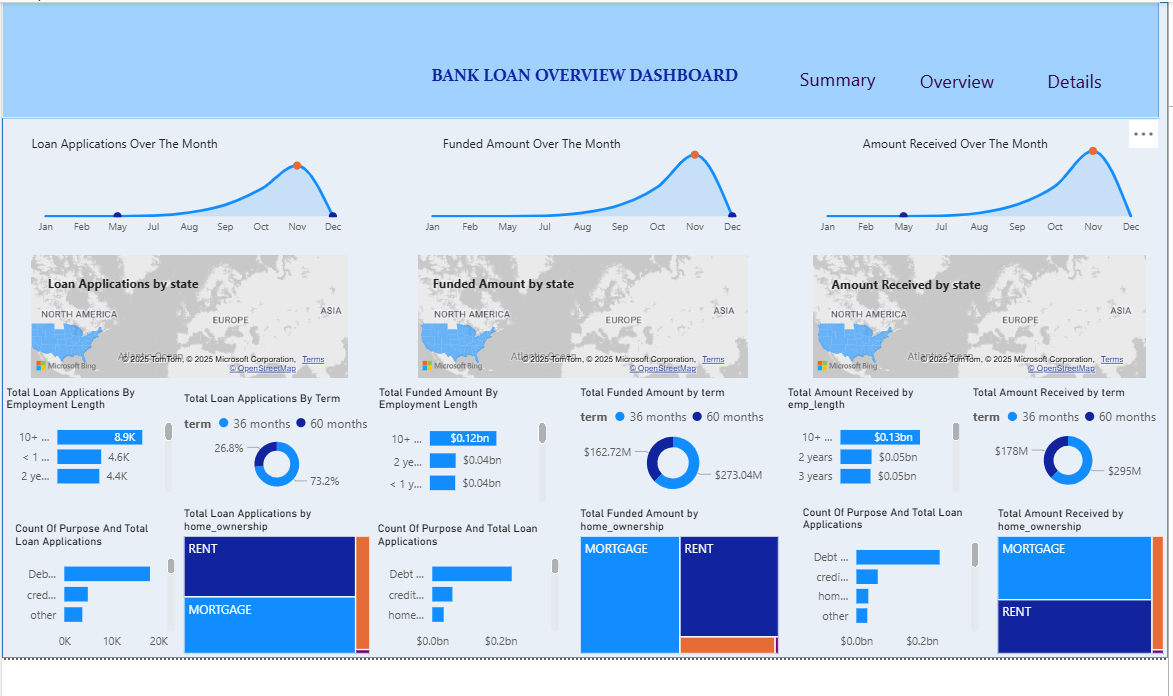

The dashboard page shown, as its layout file describes it:
{"tool":"powerbi","page":{"name":"Bank Loan Overview Dashboard","canvas":[1280,720],"ordinal":1},"visuals":[{"type":"shape","box":[0,0,1280.3,720.4],"z":0},{"type":"shape","box":[0,0,1270.7,127.6],"z":1000},{"type":"textbox","box":[466.6,64.5,356.8,42.5],"z":2000},{"type":"lineChart","fields":{"Y":["financial_loan.Total Loan Applications","select","select1"],"Category":["financial_loan.Monthname"]},"box":[27.4,141.3,356.8,122.1],"z":3000},{"type":"textbox","box":[27.4,141.3,241.5,31.6],"z":4000},{"type":"lineChart","fields":{"Y":["financial_loan.Total Funded Amount","select","select1"],"Category":["financial_loan.Monthname"]},"box":[451.5,141.3,371.9,122.1],"z":5000},{"type":"textbox","box":[478.9,141.3,245.6,31.6],"z":6000},{"type":"lineChart","fields":{"Y":["financial_loan.Total Amount Received","select","select1"],"Category":["financial_loan.Monthname"]},"box":[885.1,144.1,376,119.4],"z":7000},{"type":"textbox","box":[940,141.3,231.9,31.6],"z":8000},{"type":"filledMap","fields":{"Category":["financial_loan.address_state"]},"box":[27.4,273.1,356.8,145.5],"z":9000},{"type":"textbox","box":[45.3,295,177,31.6],"z":10000},{"type":"filledMap","fields":{"Category":["financial_loan.address_state"]},"box":[451.5,273.1,371.9,145.5],"z":11000},{"type":"filledMap","fields":{"Category":["financial_loan.address_state"]},"box":[885.1,273.1,376,145.5],"z":12000},{"type":"textbox","box":[467.9,295,177,31.6],"z":13000},{"type":"textbox","box":[905.7,296.4,199,31.6],"z":14000},{"type":"donutChart","title":"Total Loan Applications By Term","fields":{"Y":["financial_loan.Total Loan Applications"],"Category":["financial_loan.term"]},"box":[194.9,428.1,214.1,115.3],"z":15000},{"type":"donutChart","fields":{"Y":["financial_loan.Total Funded Amount"],"Category":["financial_loan.term"]},"box":[629.8,421.3,214.1,126.2],"z":17000},{"type":"donutChart","fields":{"Y":["financial_loan.Total Amount Received"],"Category":["financial_loan.term"]},"box":[1060.7,421.3,219.6,120.8],"z":19000},{"type":"clusteredBarChart","fields":{"Category":["financial_loan.emp_length"],"Y":["financial_loan.Total Amount Received"]},"box":[857.6,421.3,199,122.1],"z":21000},{"type":"clusteredBarChart","title":"Total Funded Amount By Employment Length","fields":{"Category":["financial_loan.emp_length"],"Y":["financial_loan.Total Funded Amount"]},"box":[408.9,421.3,193.5,133.1],"z":22000},{"type":"clusteredBarChart","title":"Total Loan Applications By Employment  Length","fields":{"Y":["financial_loan.Total Loan Applications"],"Category":["financial_loan.emp_length"]},"box":[0,421.3,192.1,122.1],"z":23000},{"type":"barChart","title":"Count Of Purpose And Total Loan Applications","fields":{"Category":["financial_loan.purpose"],"Y":["financial_loan.Total Loan Applications"]},"box":[9.6,570.8,185.2,149.6],"z":25000},{"type":"clusteredBarChart","title":"Count Of Purpose And Total Loan Applications","fields":{"Category":["financial_loan.purpose"],"Y":["financial_loan.Total Funded Amount"]},"box":[407.5,570.8,208.6,149.6],"z":26000},{"type":"clusteredBarChart","title":"Count Of Purpose And Total Loan Applications","fields":{"Category":["financial_loan.purpose"],"Y":["financial_loan.Total Amount Received"]},"box":[874.1,553,203.1,167.4],"z":27000},{"type":"treemap","fields":{"Group":["financial_loan.home_ownership"],"Values":["financial_loan.Total Loan Applications"]},"box":[194.9,554.4,214.1,166],"z":28000},{"type":"treemap","fields":{"Values":["financial_loan.Total Funded Amount"],"Group":["financial_loan.home_ownership"]},"box":[629.8,554.4,227.8,166],"z":29000},{"type":"treemap","fields":{"Group":["financial_loan.home_ownership"],"Values":["financial_loan.Total Amount Received"]},"box":[1088.2,554.4,192.1,166],"z":30000},{"type":"actionButton","box":[867.2,64.5,100.2,39.8],"z":31000},{"type":"actionButton","box":[988,64.5,120.8,42.5],"z":32000},{"type":"actionButton","box":[1117,64.5,120.8,42.5],"z":33000}]}

Visuals, with their boxes on the page's 1280x720 design canvas (x1, y1, x2, y2). These are canvas units, not pixel positions in the 1173x696 screenshot, which may show the page scaled, cropped or inside an application window:
shape: <box>0,0,1280,720</box>
shape: <box>0,0,1271,128</box>
textbox: <box>467,64,823,107</box>
lineChart - financial_loan.Total Loan Applications x select: <box>27,141,384,263</box>
textbox: <box>27,141,269,173</box>
lineChart - financial_loan.Total Funded Amount x select: <box>452,141,823,263</box>
textbox: <box>479,141,724,173</box>
lineChart - financial_loan.Total Amount Received x select: <box>885,144,1261,264</box>
textbox: <box>940,141,1172,173</box>
filledMap - financial_loan.address_state: <box>27,273,384,419</box>
textbox: <box>45,295,222,327</box>
filledMap - financial_loan.address_state: <box>452,273,823,419</box>
filledMap - financial_loan.address_state: <box>885,273,1261,419</box>
textbox: <box>468,295,645,327</box>
textbox: <box>906,296,1105,328</box>
"Total Loan Applications By Term" donutChart: <box>195,428,409,543</box>
donutChart - financial_loan.Total Funded Amount x financial_loan.term: <box>630,421,844,548</box>
donutChart - financial_loan.Total Amount Received x financial_loan.term: <box>1061,421,1280,542</box>
clusteredBarChart - financial_loan.emp_length x financial_loan.Total Amount Received: <box>858,421,1057,543</box>
"Total Funded Amount By Employment Length" clusteredBarChart: <box>409,421,602,554</box>
"Total Loan Applications By Employment  Length" clusteredBarChart: <box>0,421,192,543</box>
"Count Of Purpose And Total Loan Applications" barChart: <box>10,571,195,720</box>
"Count Of Purpose And Total Loan Applications" clusteredBarChart: <box>408,571,616,720</box>
"Count Of Purpose And Total Loan Applications" clusteredBarChart: <box>874,553,1077,720</box>
treemap - financial_loan.home_ownership x financial_loan.Total Loan Applications: <box>195,554,409,720</box>
treemap - financial_loan.Total Funded Amount x financial_loan.home_ownership: <box>630,554,858,720</box>
treemap - financial_loan.home_ownership x financial_loan.Total Amount Received: <box>1088,554,1280,720</box>
actionButton: <box>867,64,967,104</box>
actionButton: <box>988,64,1109,107</box>
actionButton: <box>1117,64,1238,107</box>
